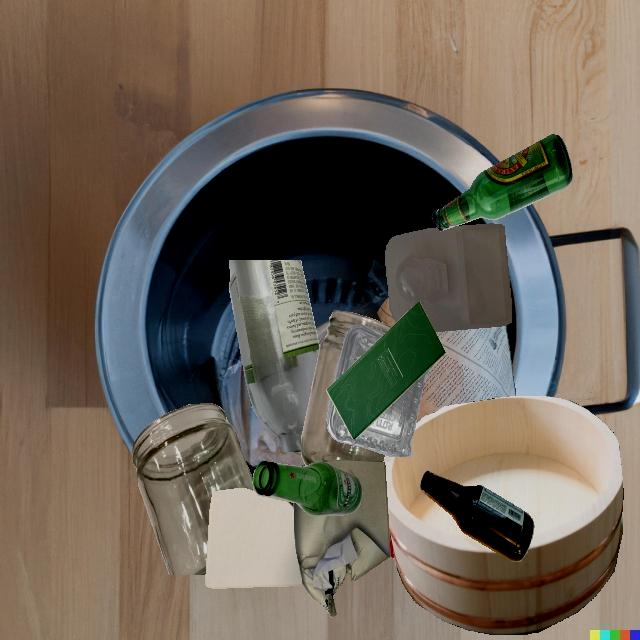combustible waste: (383, 396, 624, 635)
glass: (132, 403, 254, 575), (229, 260, 320, 452), (301, 310, 392, 466), (431, 134, 573, 231), (420, 471, 534, 561), (252, 461, 363, 517), (287, 501, 294, 508)
paper: (326, 301, 446, 440), (293, 460, 391, 618), (205, 488, 303, 589), (416, 325, 516, 423), (389, 536, 394, 558)
plastic: (385, 223, 512, 332), (327, 368, 430, 457), (334, 324, 385, 382)
